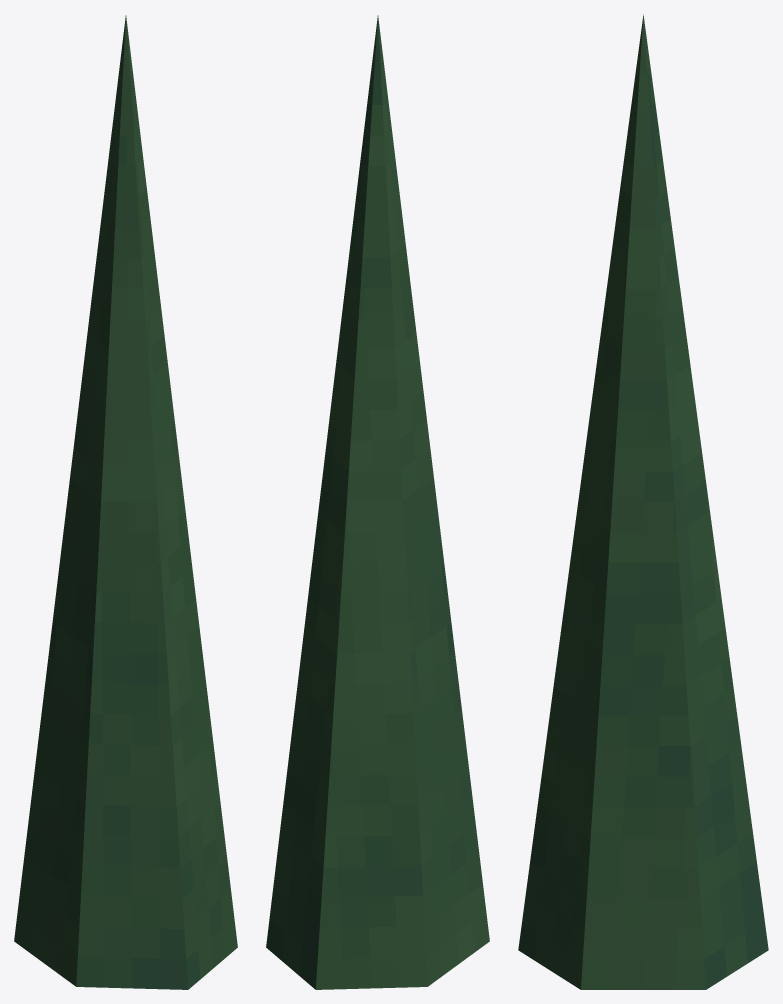
The model's file is Needle.glb.
3 views of the same model, side by side, from view 1: azimuth 30°, elevation 25°; view 2: azimuth 150°, elevation 25°; view 3: azimuth 270°, elevation 25° (orthographic).
Visible parts, largest first — view 1: Needle; view 2: Needle; view 3: Needle.
Part boxes in pixels (bbox=[...]): Needle: bbox=[14, 15, 237, 989]; Needle: bbox=[266, 15, 489, 989]; Needle: bbox=[518, 14, 768, 989].
Bounding box in the file's own units: 0.6 × 3.3 × 0.8.
1 material, 1 textured.
